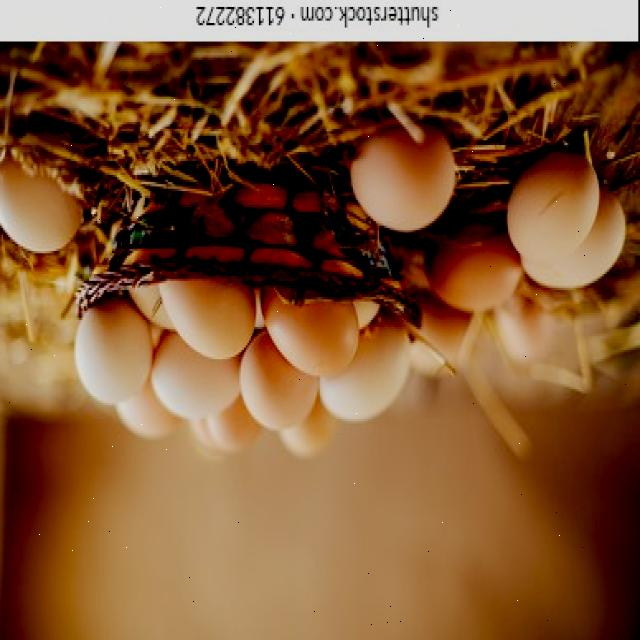Brown Egg: (348, 139, 457, 233), (0, 157, 96, 256), (506, 159, 595, 260), (264, 292, 358, 378), (162, 283, 257, 362), (424, 236, 520, 312), (239, 343, 317, 433)
